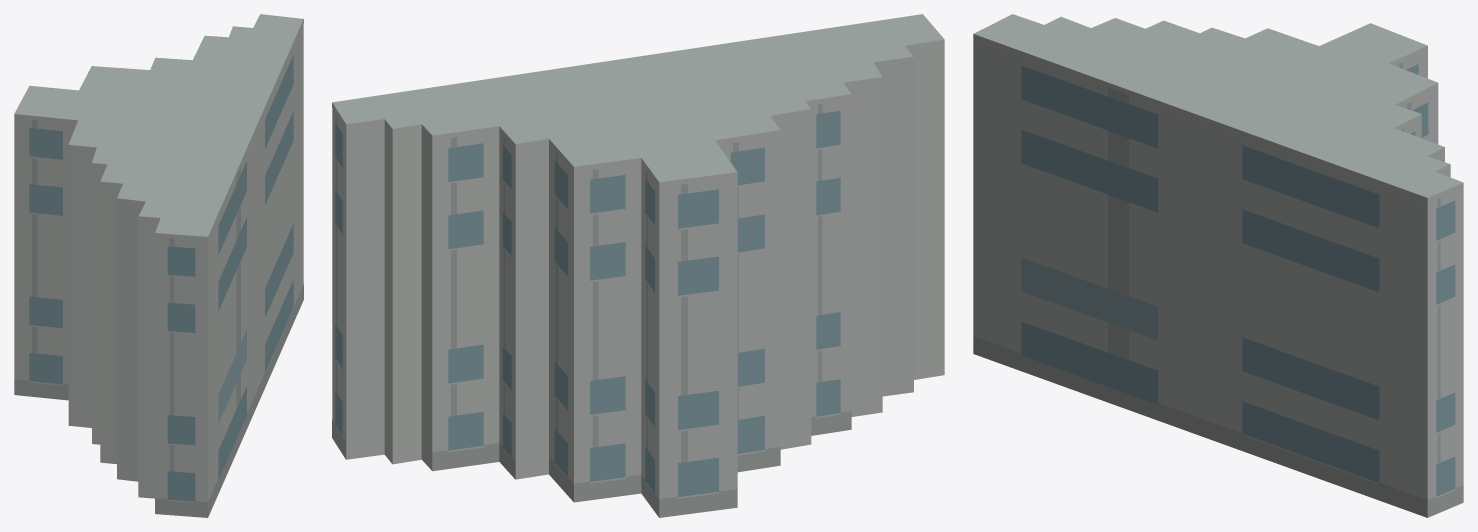
The model's file is survey-upis-32579885.glb.
3 views of the same model, side by side, from view 1: azimuth 30°, elevation 25°; view 2: azimuth 150°, elevation 25°; view 3: azimuth 270°, elevation 25° (orthographic). The views are drawn at different scales.
Visible parts, largest first — view 1: survey-upis-32579885.tmp; view 2: survey-upis-32579885.tmp; view 3: survey-upis-32579885.tmp.
Boxes of the visible parts, x1,y1,x2,y2 form: survey-upis-32579885.tmp: (14,14,303,517); survey-upis-32579885.tmp: (332,14,944,517); survey-upis-32579885.tmp: (973,14,1463,517).
Bounding box in the file's own units: 18.8 × 15.25 × 21.19.
